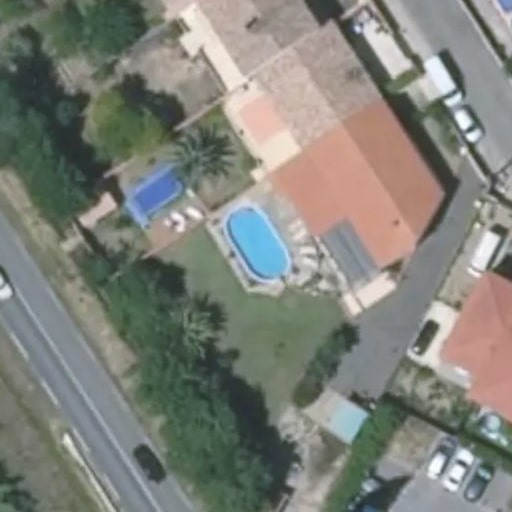pool: (225, 204, 297, 281), (123, 165, 186, 217)
